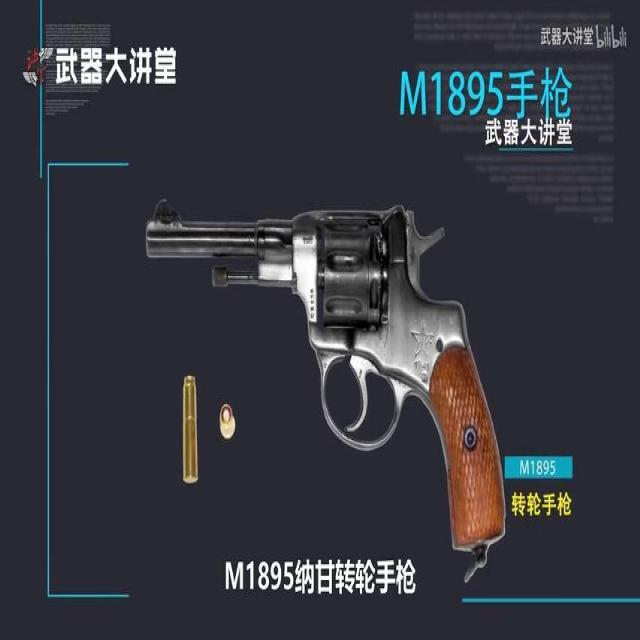rifle: (144, 195, 506, 582)
